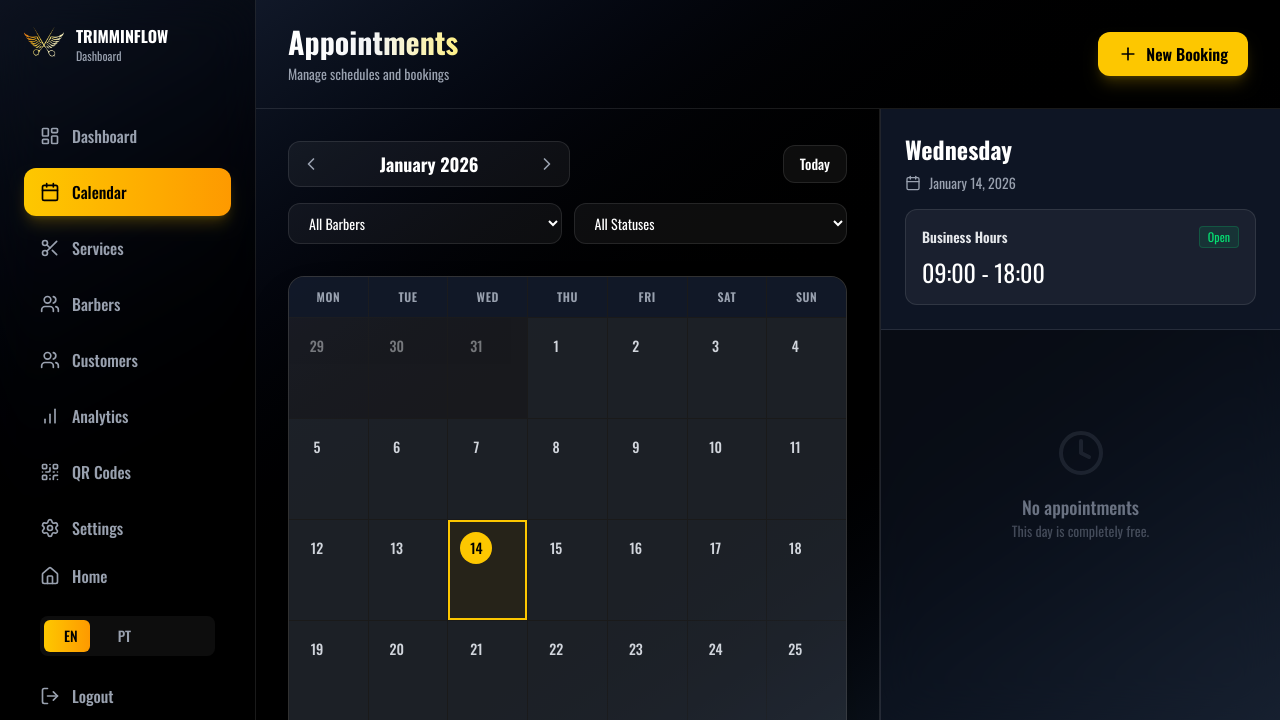
it: Calendar & Appointments › should filter by barber
The image size is (1280, 720).
Select "Maxi" in the 1st dropdown at (425, 224), box [288,203,562,244]
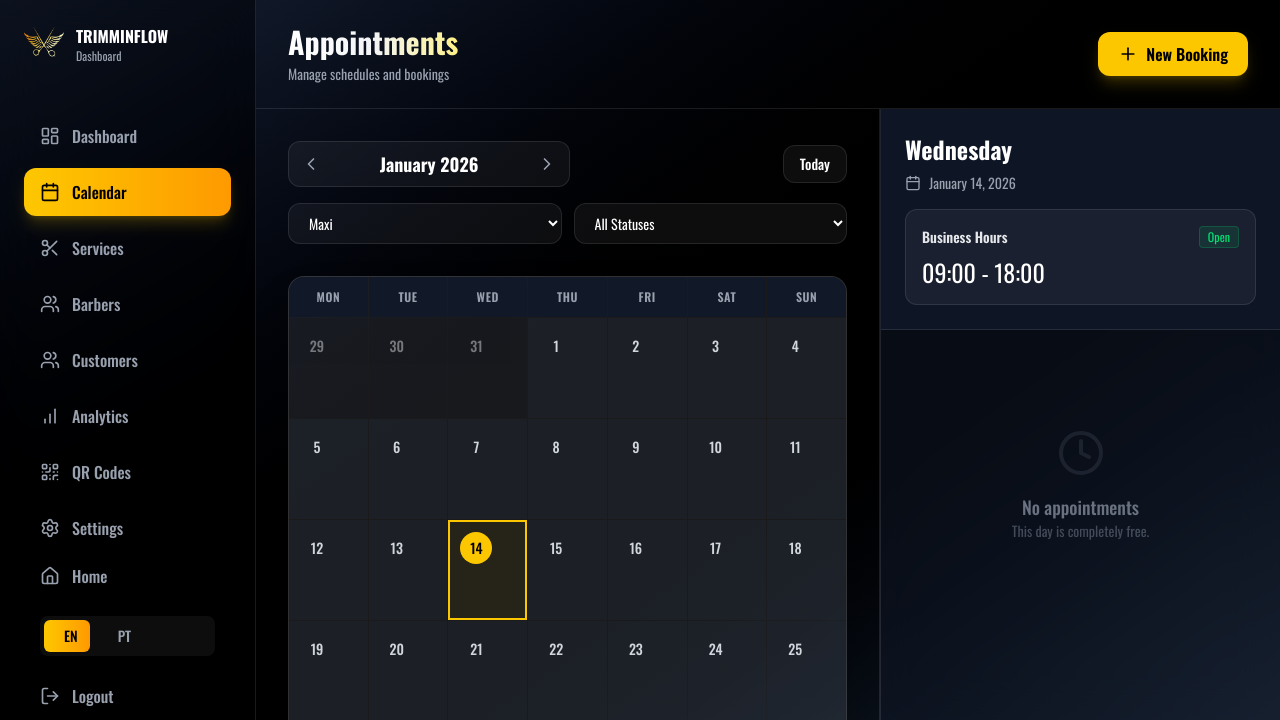
Expected: the 1st dropdown shows "Maxi", [288,203,562,244]
